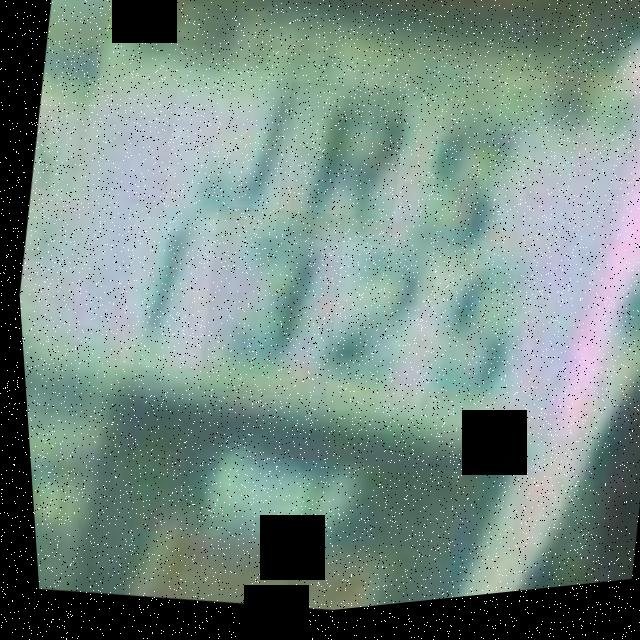1: (107, 212, 219, 379)
3: (183, 200, 351, 416), (291, 226, 448, 420)
5: (392, 223, 556, 419)
J: (150, 59, 310, 254)
R: (263, 78, 413, 263)
S: (375, 104, 520, 270)
